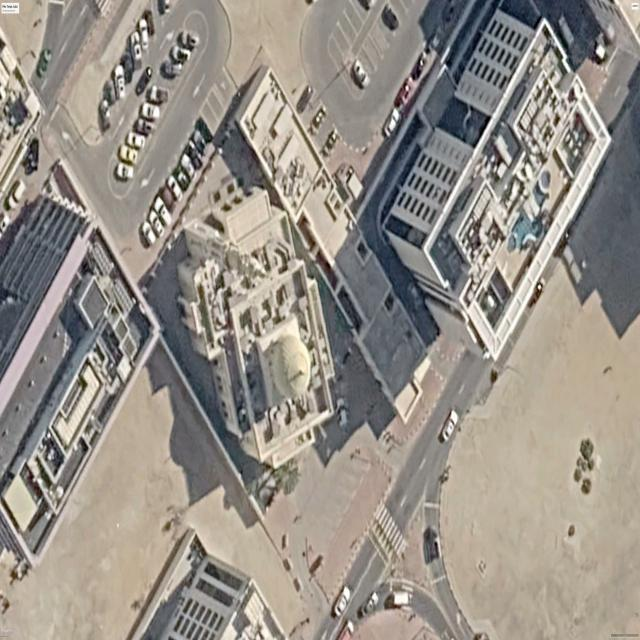Home: (178, 190, 334, 469)
